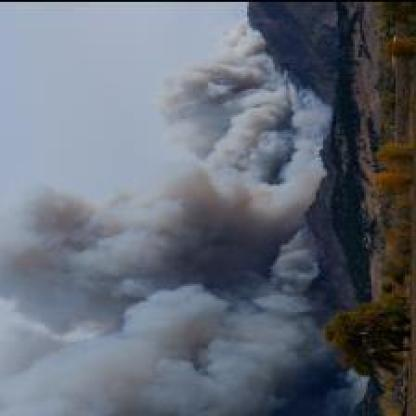Smoke: (0, 32, 375, 414)
